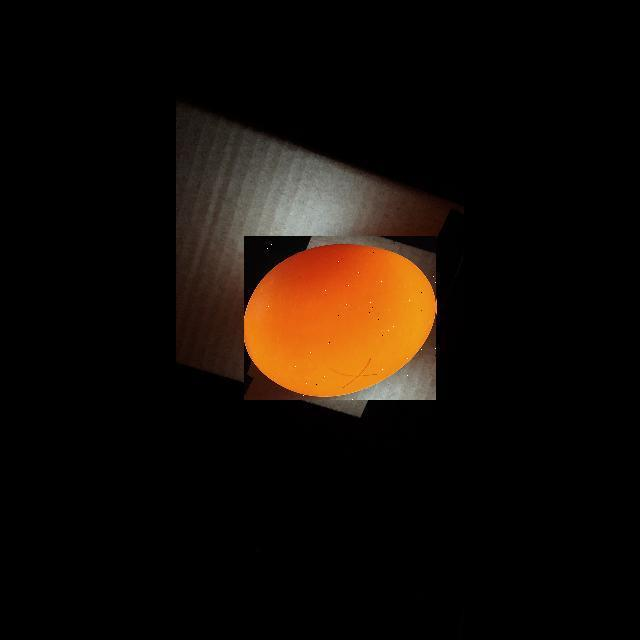A - Good: (243, 236, 433, 399)
